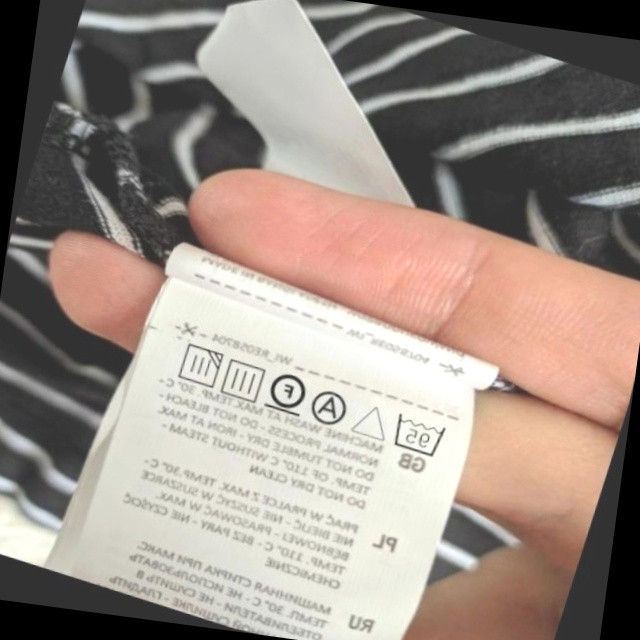95C: (385, 408, 451, 462)
bleach: (350, 395, 395, 446)
drip_dry: (216, 353, 271, 406)
drip_dry_in_shade: (170, 337, 226, 393)
dry_clean: (306, 384, 354, 431)
dry_clean_petrol_only: (262, 364, 313, 419)
